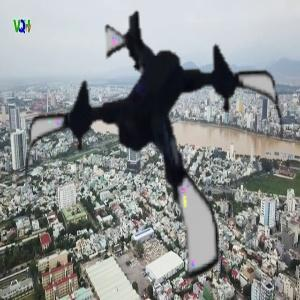drone: (17, 5, 298, 286)
